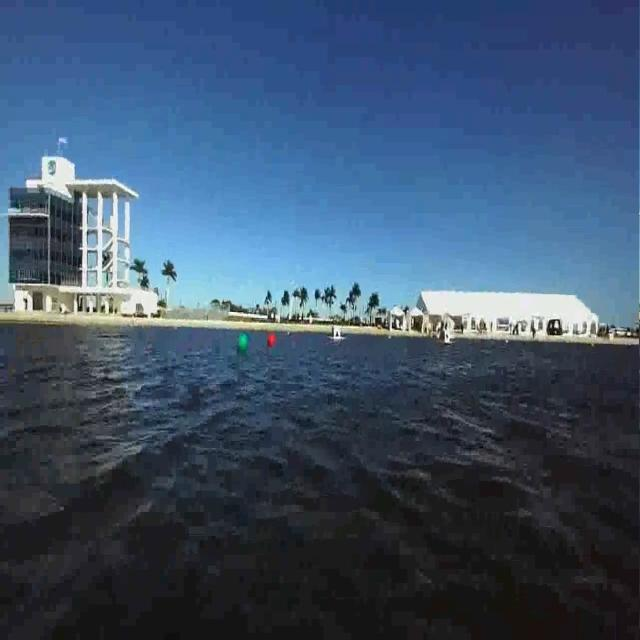green-buoy: (238, 334, 250, 354)
red-buoy: (267, 328, 278, 351)
